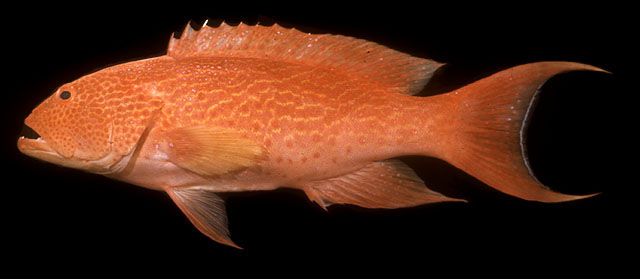fish: (16, 19, 611, 249)
